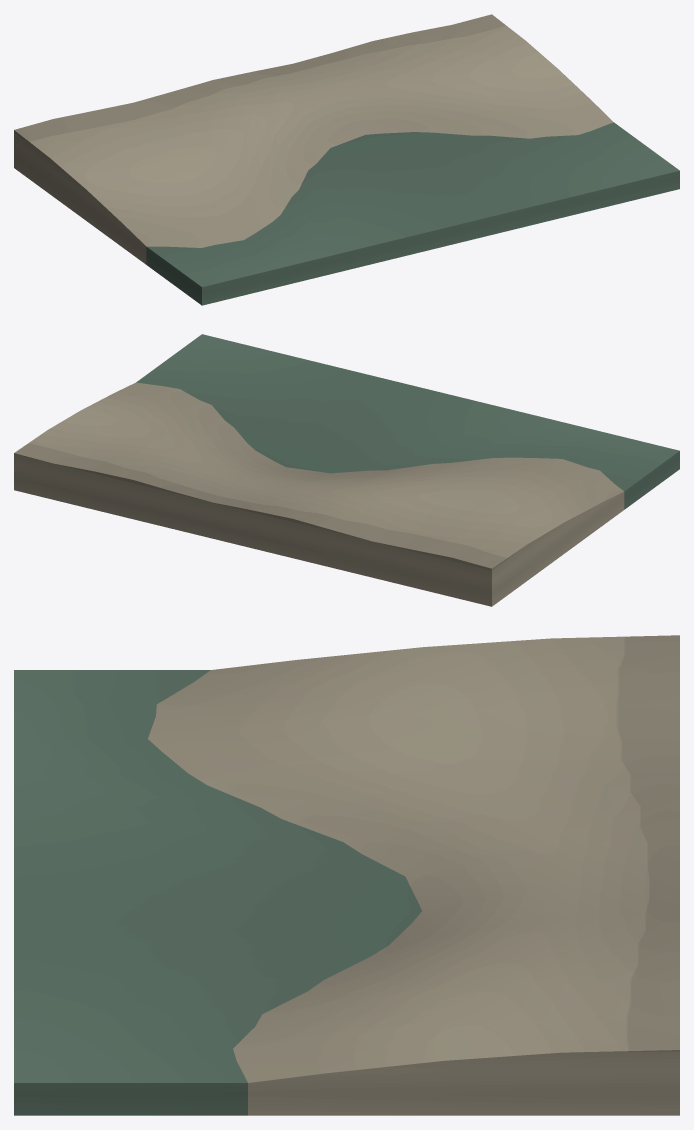
3 views of the same model, one above another, from view 1: azimuth 30°, elevation 25°; view 2: azimuth 150°, elevation 25°; view 3: azimuth 270°, elevation 25° (orthographic). The views are drawn at different scales.
Parts seen in each view (by area): view 1: adamstown; view 2: adamstown; view 3: adamstown.
Part boxes in pixels (bbox=[...]): adamstown: bbox=[14, 14, 679, 305]; adamstown: bbox=[14, 334, 679, 606]; adamstown: bbox=[14, 635, 679, 1115].
Size of the model in its own units: 6.97 by 0.5499 by 4.75.
1 material, 1 textured.
